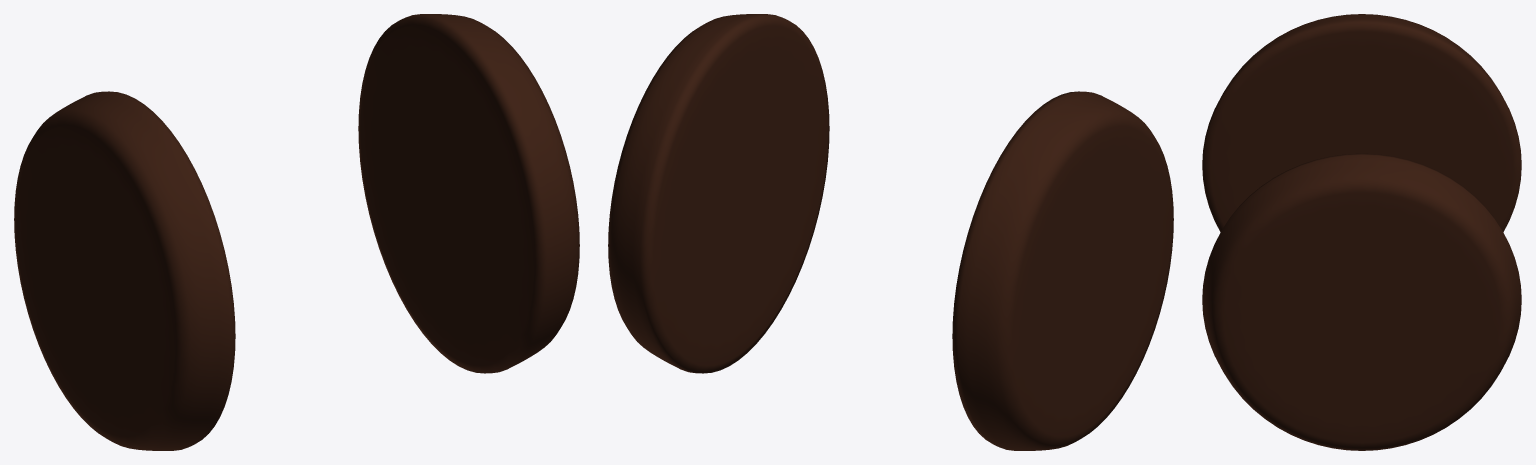
Rendered from AirshipBalloonBelts.obj.
3 views of the same model, side by side, from view 1: azimuth 30°, elevation 25°; view 2: azimuth 150°, elevation 25°; view 3: azimuth 270°, elevation 25° (orthographic). The views are drawn at different scales.
Parts seen in each view (by area): view 1: BaloonBearing2 Baloon1 AirShipBasket1, Baloon1 AirShipBasket1 BaloonBearing1; view 2: BaloonBearing2 Baloon1 AirShipBasket1, Baloon1 AirShipBasket1 BaloonBearing1; view 3: BaloonBearing2 Baloon1 AirShipBasket1, Baloon1 AirShipBasket1 BaloonBearing1.
Boxes of the visible parts, x1,y1,x2,y2 form: BaloonBearing2 Baloon1 AirShipBasket1: (358, 14, 579, 373); Baloon1 AirShipBasket1 BaloonBearing1: (14, 91, 235, 450); BaloonBearing2 Baloon1 AirShipBasket1: (608, 14, 829, 373); Baloon1 AirShipBasket1 BaloonBearing1: (952, 91, 1173, 450); BaloonBearing2 Baloon1 AirShipBasket1: (1202, 153, 1521, 450); Baloon1 AirShipBasket1 BaloonBearing1: (1202, 14, 1521, 231).
Size of the model in its own units: 50.96 by 40.37 by 40.37.
